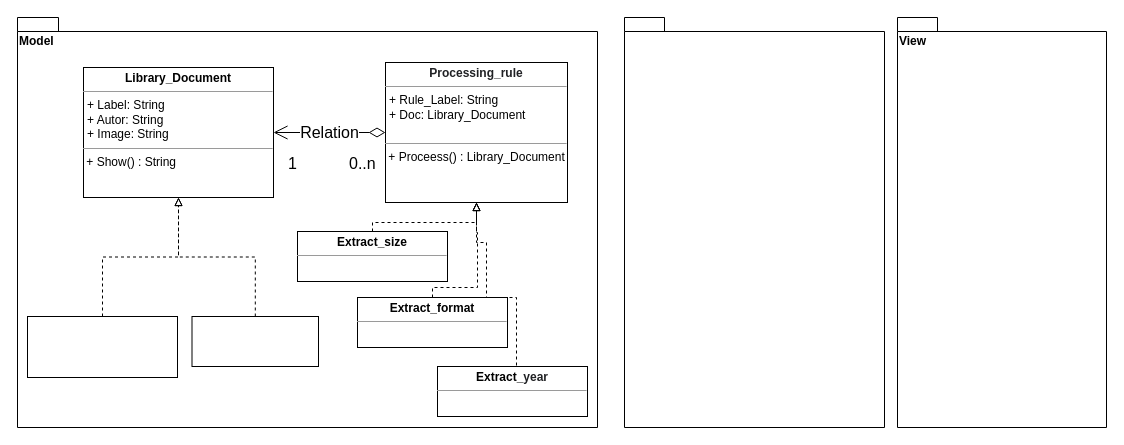
The diagram is 1124 pixels wide and 445 high, and some of its shapes have lost their labels. The centre of each missing label's shape, as x and y in pixels:
"Article + Compilation: String" goes at point (254, 341).
"Book + Title: Image + Publishing_house: String" goes at point (102, 347).
"Controller" goes at point (754, 222).
